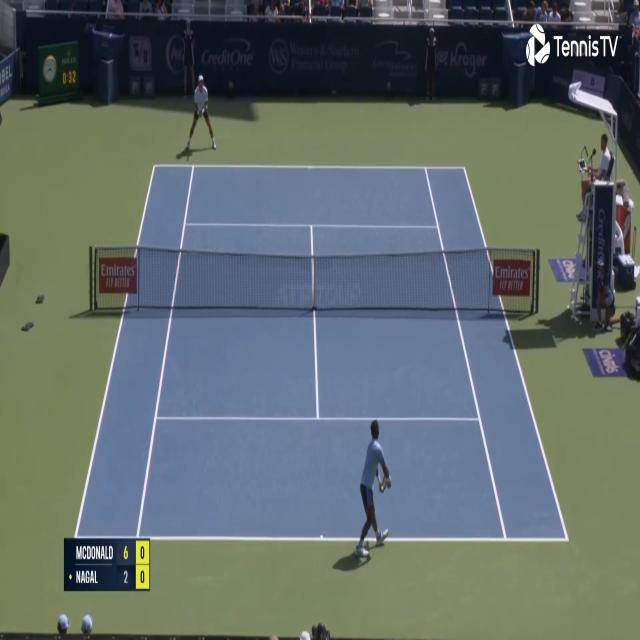tennis-player: (352, 414, 392, 566), (185, 72, 218, 156)
